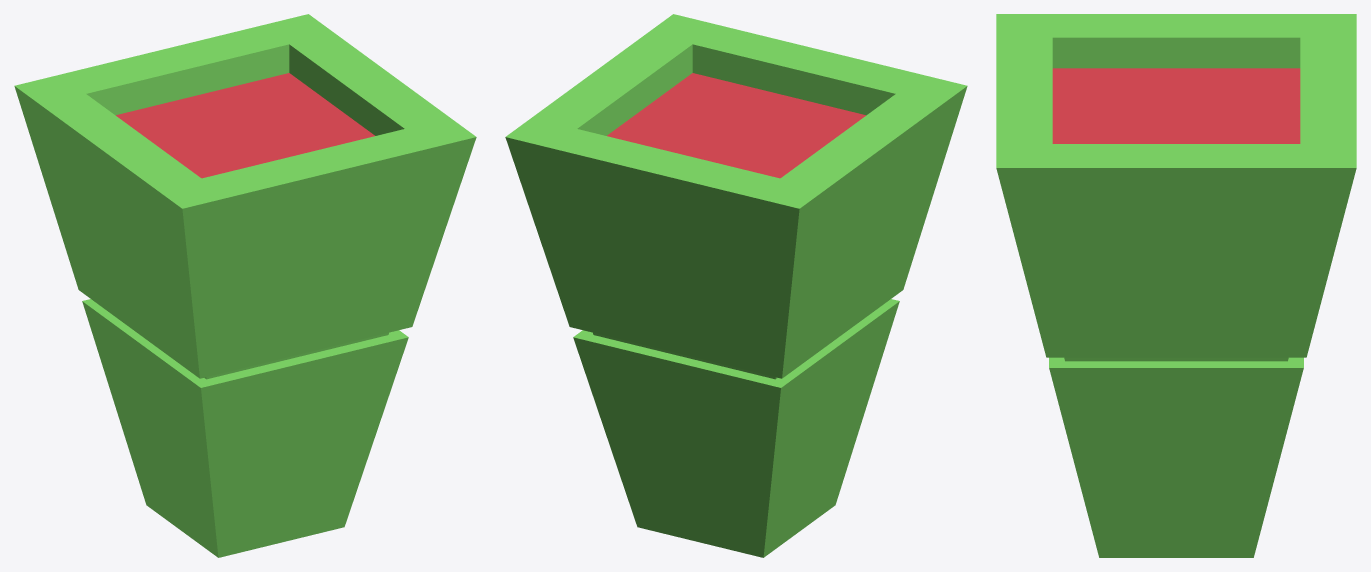
The model's file is VasoPlanta.fbx.
The picture shows the model from 3 angles, left to right: view 1: azimuth 30°, elevation 25°; view 2: azimuth 150°, elevation 25°; view 3: azimuth 270°, elevation 25°; orthographic projection. The views are drawn at different scales.
Parts seen in each view (by area): view 1: Vaso, InteriorVaso; view 2: Vaso, InteriorVaso; view 3: Vaso, InteriorVaso.
Part boxes in pixels (x1,y1,x2,y2): Vaso: (14, 14, 476, 557); InteriorVaso: (116, 73, 374, 178); Vaso: (505, 14, 967, 557); InteriorVaso: (607, 73, 865, 178); Vaso: (996, 14, 1356, 557); InteriorVaso: (1052, 68, 1300, 143).
Size of the model in its own units: 32.33 by 42.5 by 31.99.
